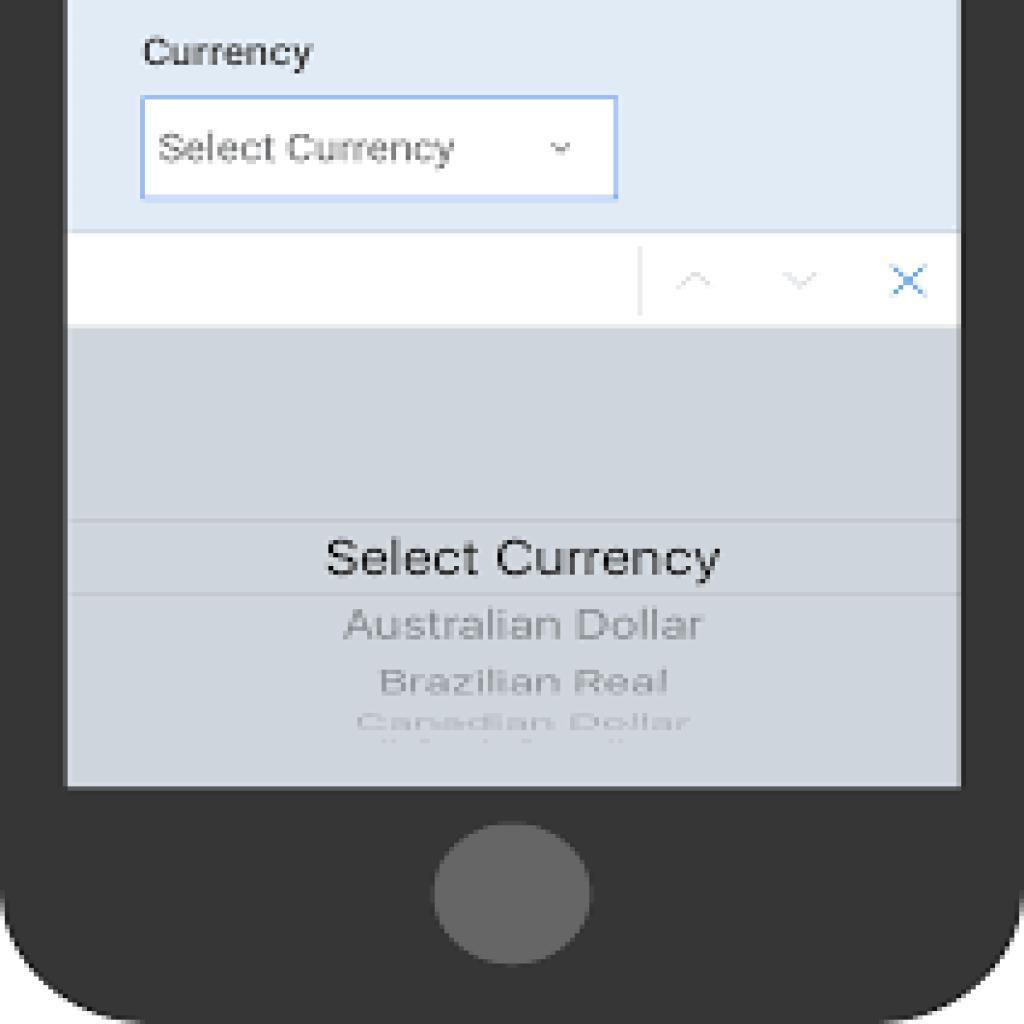dropdown: (143, 98, 619, 202)
icon: (881, 255, 937, 307), (667, 264, 724, 299), (779, 262, 824, 295)
